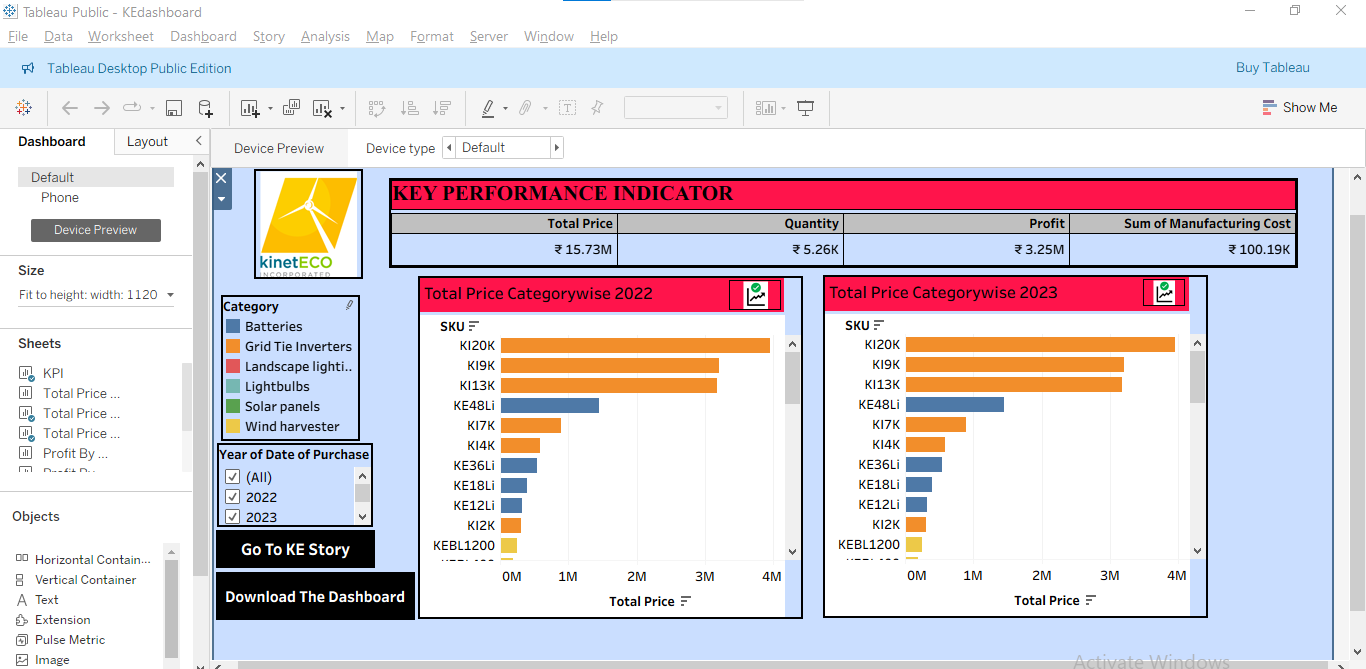

The dashboard page shown, as its layout file describes it:
{"tool":"tableau","page":{"name":"KinetEco Dashboard","canvas":[1000,1000],"units":"permille","ordinal":0},"visuals":[{"type":"title","box":[168.8,3.6,707.1,76.8]},{"type":"image","param":"C:/Users/Pc/Downloads/KinetEcoInc.png","box":[35.7,73.2,97.3,196.4]},{"type":"worksheet","title":"KPI","mark":"Automatic","box":[156.2,89.3,811.6,160.7]},{"type":"worksheet","title":"Total Price Categorywise 2023","mark":"Automatic","rows":["SKU"],"cols":["Total Price"],"box":[543.8,262.5,343.8,612.5]},{"type":"worksheet","title":"Total Price Categorywise 2022","mark":"Automatic","rows":["SKU"],"cols":["Total Price"],"box":[182.1,264.3,343.8,612.5]},{"type":"dashboard-object","box":[829.5,269.6,37.5,48.2]},{"type":"dashboard-object","box":[459.8,271.4,46.4,53.6]},{"type":"legend","title":"Total Price Categorywise 2022","param":"[federated.01wckk91q8n7ei1h1etdk1ktlx8f].[none:Category:nk]","box":[6.2,298.2,124.1,260.7]},{"type":"filter","title":"Total Price Categorywise 2022","param":"[federated.01wckk91q8n7ei1h1etdk1ktlx8f].[yr:Date of Purchase:ok]","box":[2.7,562.5,139.3,150]},{"type":"dashboard-object","box":[1.8,717.9,142,67.9]},{"type":"dashboard-object","box":[1.8,792.9,177.7,85.7]}]}

Visuals, with their boxes on the dashboard's canvas, which has no fixed pixel size, in thousandths of its width and height (x1, y1, x2, y2). These are canvas units, not pixel positions in the 1366x669 screenshot, which may show the page scaled, cropped or inside an application window:
title: bbox=(169, 4, 876, 80)
image: bbox=(36, 73, 133, 270)
"KPI" worksheet: bbox=(156, 89, 968, 250)
"Total Price Categorywise 2023" worksheet: bbox=(544, 262, 888, 875)
"Total Price Categorywise 2022" worksheet: bbox=(182, 264, 526, 877)
dashboard-object: bbox=(830, 270, 867, 318)
dashboard-object: bbox=(460, 271, 506, 325)
"Total Price Categorywise 2022" legend: bbox=(6, 298, 130, 559)
"Total Price Categorywise 2022" filter: bbox=(3, 562, 142, 712)
dashboard-object: bbox=(2, 718, 144, 786)
dashboard-object: bbox=(2, 793, 180, 879)
